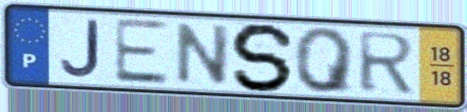E: (111, 15, 172, 86)
J: (58, 18, 103, 80)
N: (173, 21, 234, 87)
Q: (292, 26, 358, 96)
R: (355, 30, 419, 96)
S: (228, 21, 300, 94)
